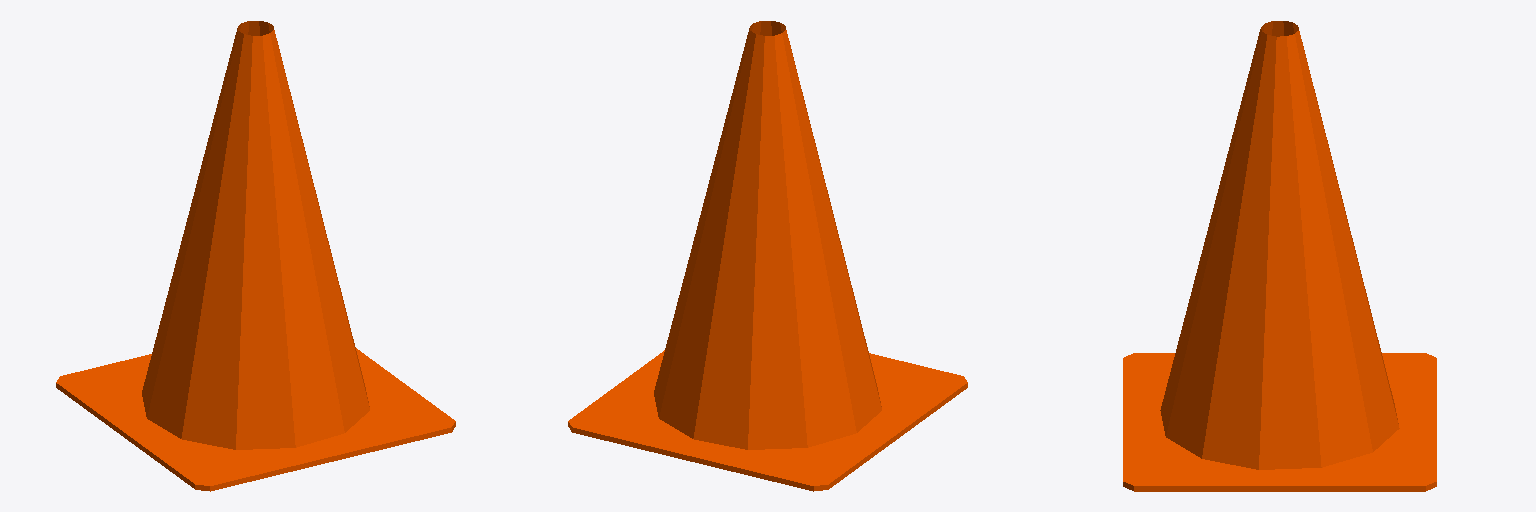
robot.urdf — sketchup_model:
<?xml version="1.0" ?>
<robot name="sketchup_model">

  <!-- 三角錐 -->
  <link name="body">
    <visual>
      <origin xyz="0 0 0" rpy="0 0 0"/>
      <geometry>
        <mesh filename="cone.dae" scale="1 1 1"/>
      </geometry>
      <material name="cone">
        <color rgba="1 0.4 0 1"/> <!--橘色-->
      </material>
    </visual>
    <collision>
      <origin xyz="0 0 0" rpy="0 0 0"/>
      <geometry>
        <mesh filename="cone.dae" scale="1 1 1"/>
      </geometry>
    </collision>
    <inertial>
      <mass value="0"/>
      <inertia ixx="0" ixy="0" ixz="0" iyy="0" iyz="0" izz="0"/>
    </inertial>
  </link>

</robot>

--- Facts derived from the render (not from the file) ---
The picture shows the robot from 3 angles, left to right: view 1: azimuth 30°, elevation 25°; view 2: azimuth 150°, elevation 25°; view 3: azimuth 270°, elevation 25°; orthographic projection.
Robot: sketchup_model — 1 links, 0 joints (none); root link body; default pose: every joint at zero.
Links seen in each view (by area): view 1: body; view 2: body; view 3: body.
Link boxes in pixels (x1,y1,x2,y2): body: [56, 21, 455, 491]; body: [568, 21, 967, 491]; body: [1123, 21, 1436, 491].
Size in the robot's own frame: 0.3288 by 0.3288 by 0.4572 metres.
Meshes: 1 distinct files referenced, 1 mesh visuals loaded (1 Collada DAE).
